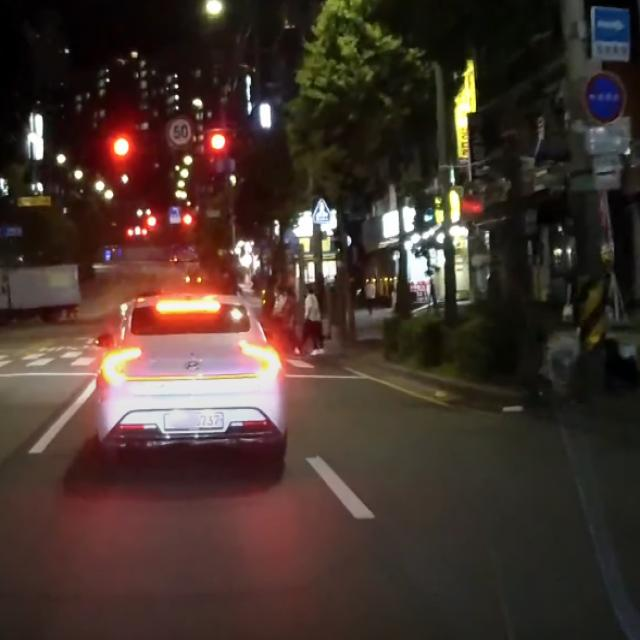Red Light: (109, 130, 135, 161), (205, 127, 230, 156)
